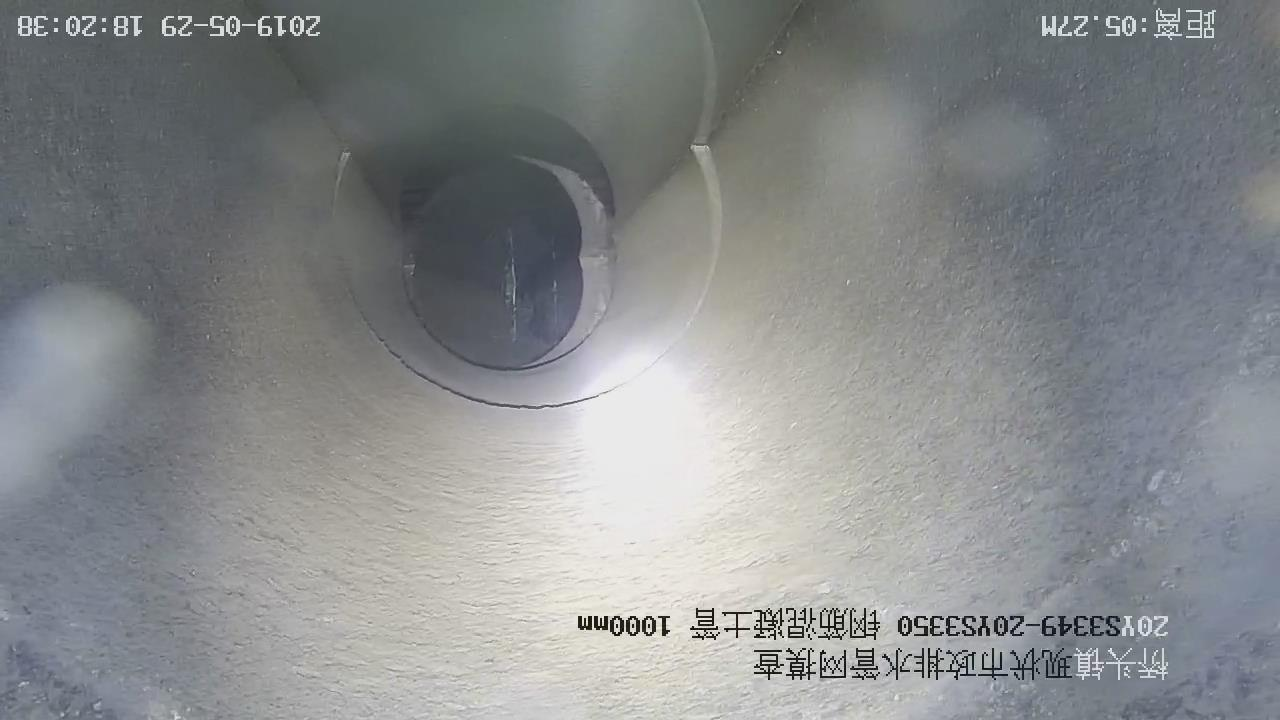CKTJ: (522, 252, 613, 368), (686, 143, 723, 326), (331, 148, 353, 218)
